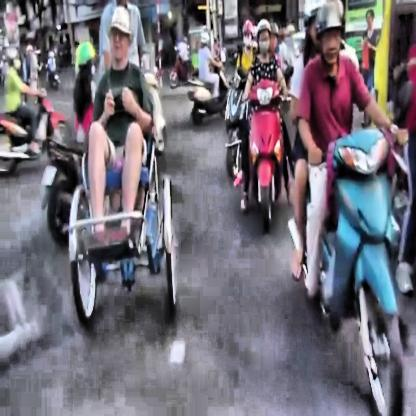wear: (316, 0, 344, 65), (77, 40, 96, 78), (256, 17, 272, 56)
